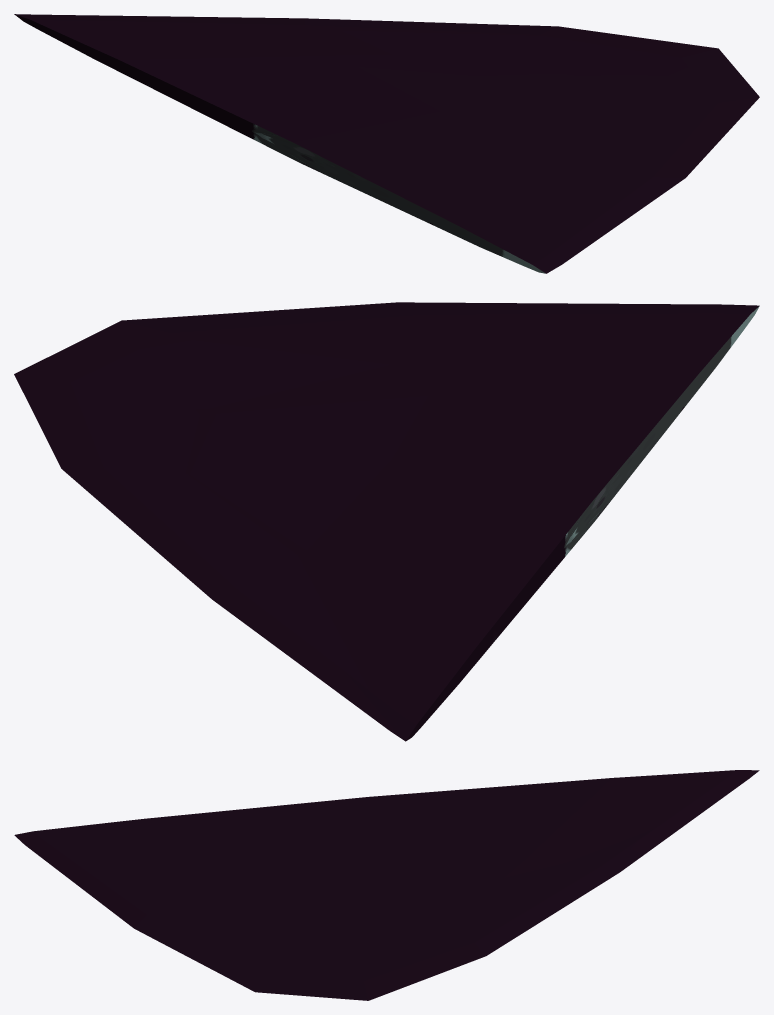
The model's file is two.obj.
The picture shows the model from 3 angles, top to bottom: view 1: azimuth 30°, elevation 25°; view 2: azimuth 150°, elevation 25°; view 3: azimuth 270°, elevation 25°; orthographic projection. The views are drawn at different scales.
Visible parts, largest first — view 1: left-hand.001; view 2: left-hand.001; view 3: left-hand.001.
Part boxes in pixels (x1,y1,x2,y2): left-hand.001: (14,14,759,273); left-hand.001: (14,302,759,741); left-hand.001: (14,770,759,1000).
Bounding box in the file's own units: 4.89 × 0.1627 × 6.77.
1 material, 1 textured.
